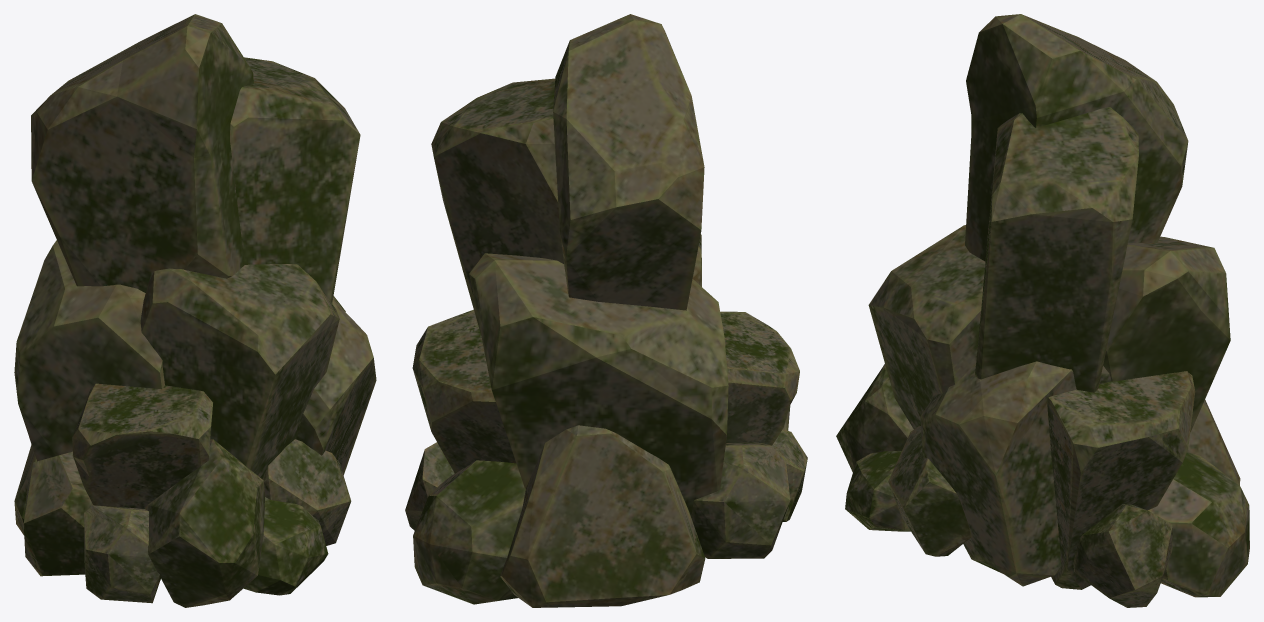
File: mossy rocks2.fbx
3 renders of one model, left to right at view 1: azimuth 30°, elevation 25°; view 2: azimuth 150°, elevation 25°; view 3: azimuth 270°, elevation 25°, orthographic. The views are drawn at different scales.
Parts seen in each view (by area): view 1: Mossy_Rock_Group7_M_Mossy_Rock_0; view 2: Mossy_Rock_Group7_M_Mossy_Rock_0; view 3: Mossy_Rock_Group7_M_Mossy_Rock_0.
Part boxes in pixels (x1,y1,x2,y2): Mossy_Rock_Group7_M_Mossy_Rock_0: (14, 14, 376, 607); Mossy_Rock_Group7_M_Mossy_Rock_0: (405, 14, 807, 607); Mossy_Rock_Group7_M_Mossy_Rock_0: (836, 14, 1249, 607).
Bounding box in the file's own units: 197 × 295 × 208.
Materials: 1 (1 with a texture image).
